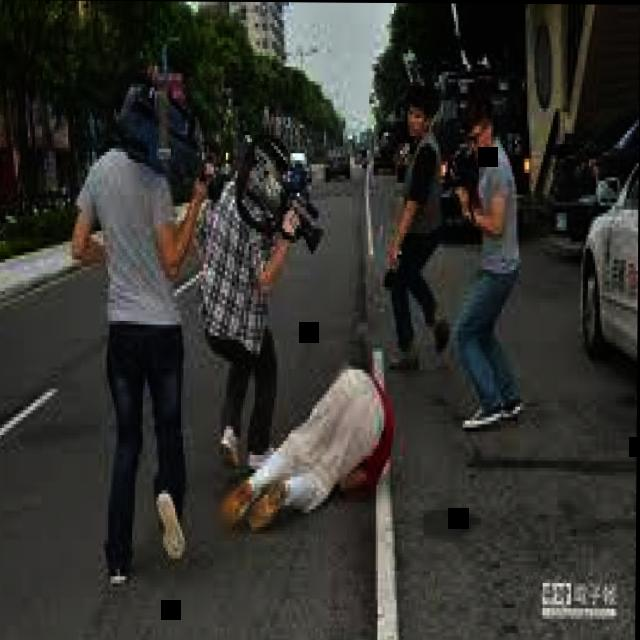Fall-Detected: (216, 311, 400, 538)
